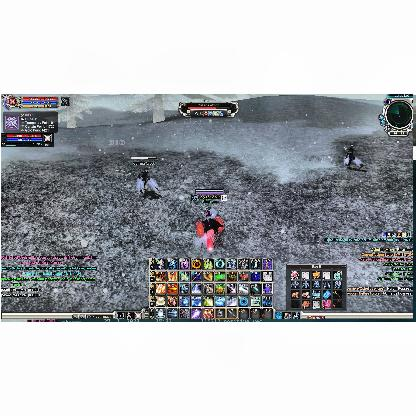caliana: (340, 144, 364, 168), (136, 169, 158, 193)
